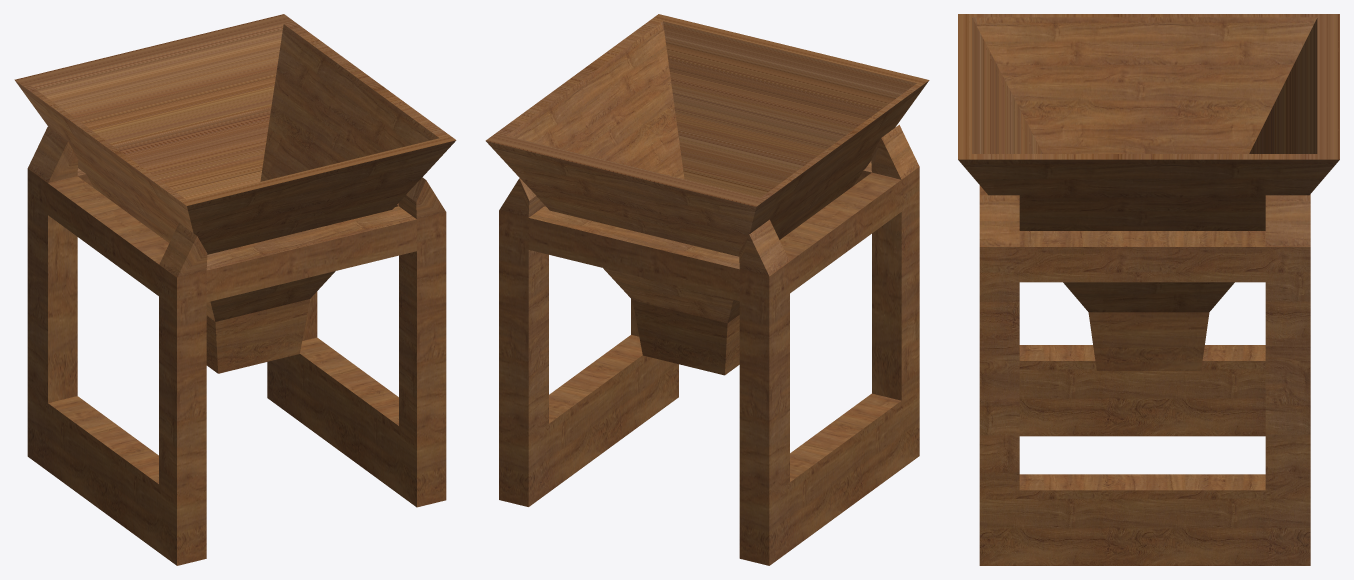
File: Funil_Madeira_Clara.fbx
3 views of the same model, side by side, from view 1: azimuth 30°, elevation 25°; view 2: azimuth 150°, elevation 25°; view 3: azimuth 270°, elevation 25° (orthographic). The views are drawn at different scales.
Parts seen in each view (by area): view 1: polySurface74, pCube27; view 2: polySurface74, pCube27; view 3: pCube27, polySurface74.
Part boxes in pixels (bbox=[...]): polySurface74: bbox=[27, 127, 446, 565]; pCube27: bbox=[14, 14, 456, 373]; polySurface74: bbox=[499, 124, 919, 565]; pCube27: bbox=[485, 14, 929, 375]; pCube27: bbox=[958, 14, 1339, 370]; polySurface74: bbox=[979, 185, 1310, 565].
Bounding box in the file's own units: 0.8491 × 1.1 × 0.9405.
